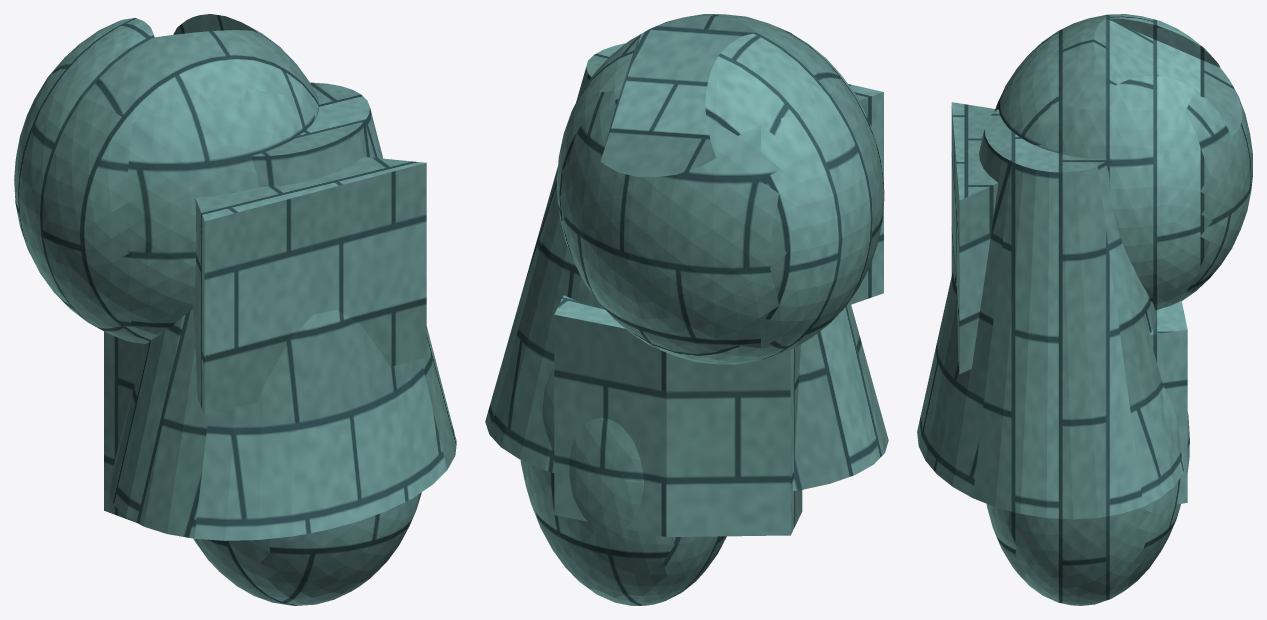
The picture shows the model from 3 angles, left to right: view 1: azimuth 30°, elevation 25°; view 2: azimuth 150°, elevation 25°; view 3: azimuth 270°, elevation 25°; orthographic projection. The views are drawn at different scales.
Visible parts, largest first — view 1: geometry_0; view 2: geometry_0; view 3: geometry_0.
Boxes of the visible parts, bbox=[...] form: geometry_0: bbox=[14, 14, 456, 605]; geometry_0: bbox=[485, 14, 888, 605]; geometry_0: bbox=[917, 14, 1252, 605].
Size of the model in its own units: 1.47 by 2.17 by 1.26.
1 material, 1 textured.
